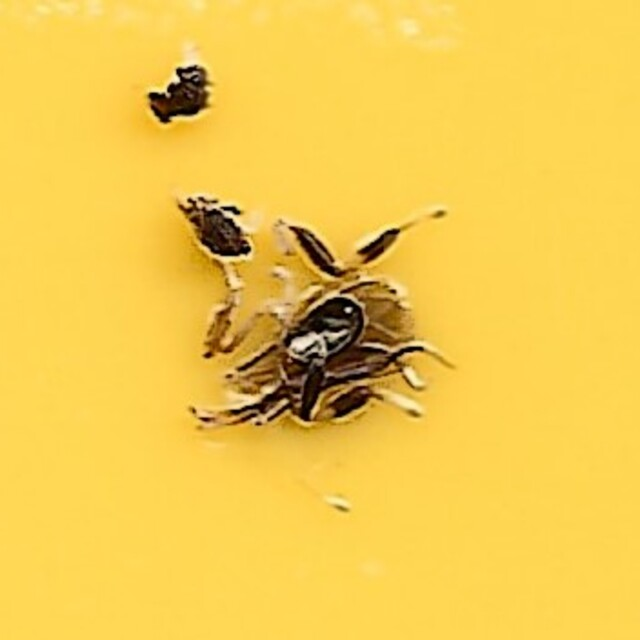Hymenoptera: (182, 197, 458, 443)
